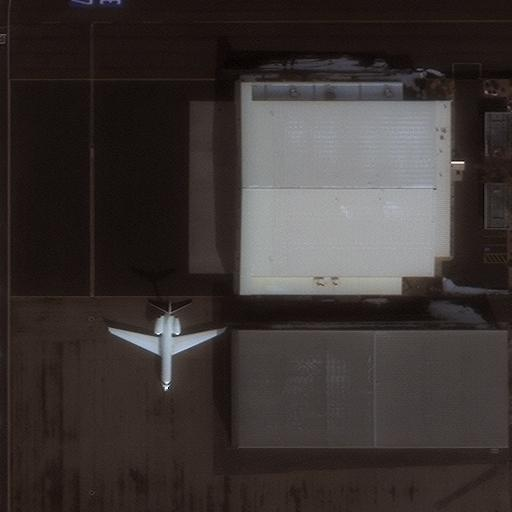Medium Civil Transport: (108, 302, 225, 391)
